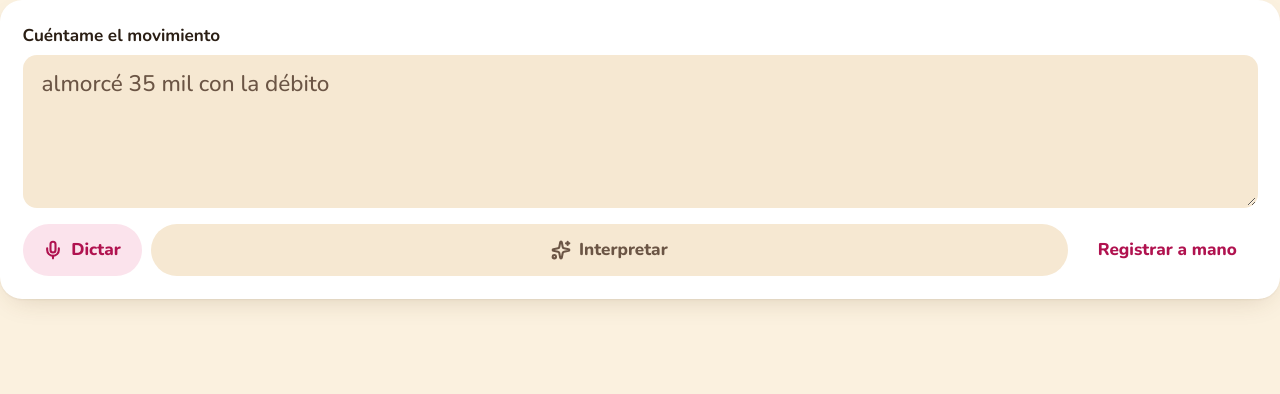
Test: RegisterFlow › stays on the text box when rate limited
The width and height of the screenshot is (1280, 394).
Type "almorcé 35 mil" into the text box labelled "Cuéntame el movimiento" at (640, 131), box [22, 55, 1258, 208]
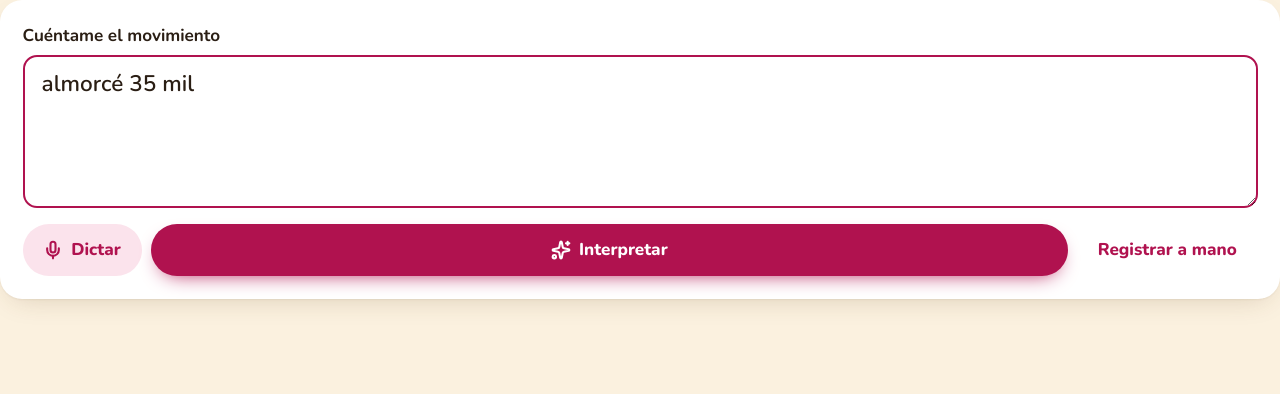
Click the button "Interpretar" at (609, 250), box [150, 224, 1068, 276]
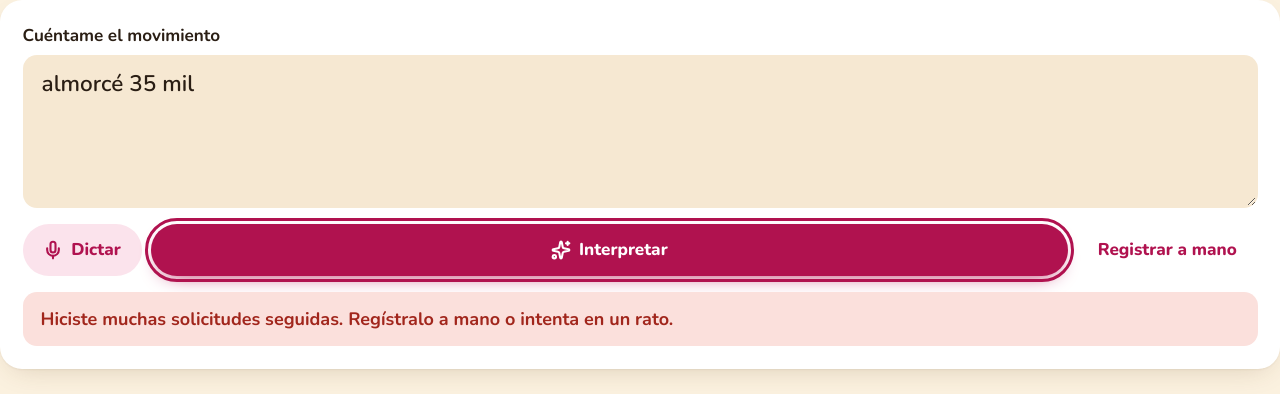
Now the message shows "Hiciste muchas solicitudes seguidas", box [40, 307, 673, 331]
